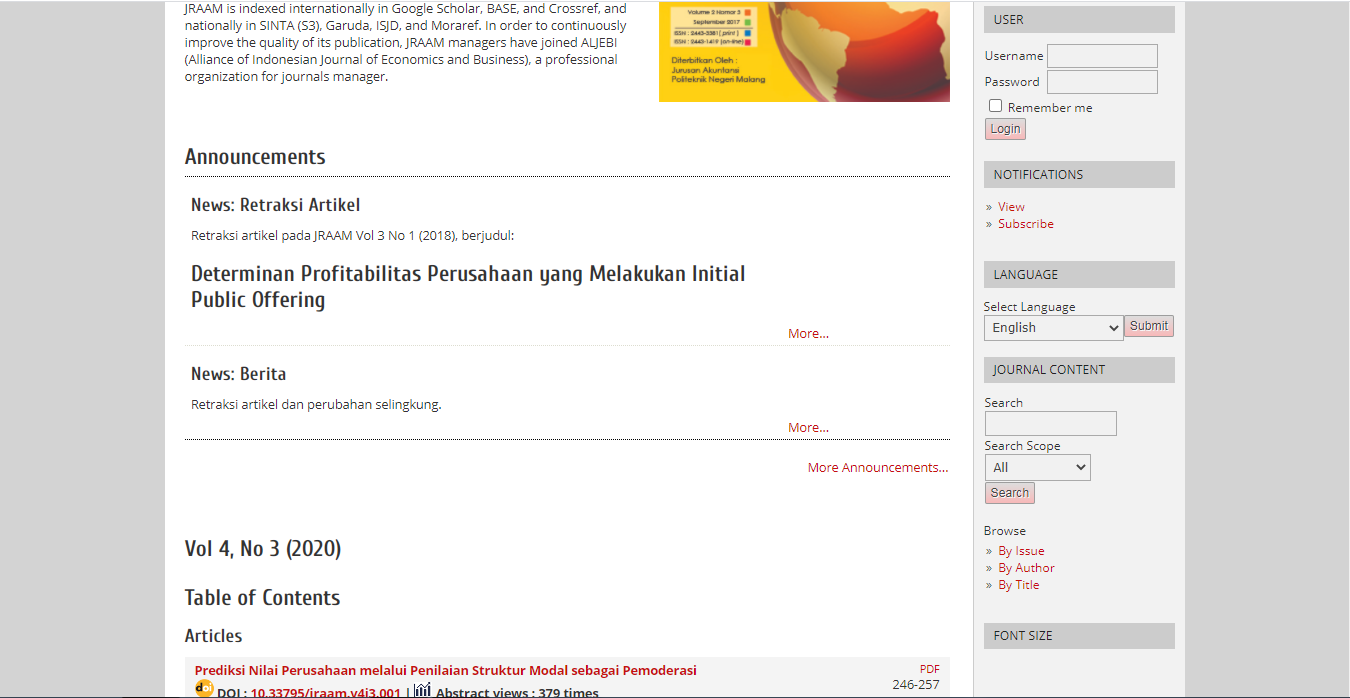Button: (1125, 313, 1173, 336), (985, 117, 1026, 140)
Image: (656, 0, 949, 99)
Nav Bar: (981, 301, 1124, 345), (981, 524, 1057, 601), (981, 199, 1062, 235)
Side Bar: (976, 7, 1185, 698)
Text Field: (1045, 39, 1160, 71), (983, 411, 1118, 438), (1045, 67, 1160, 96)
